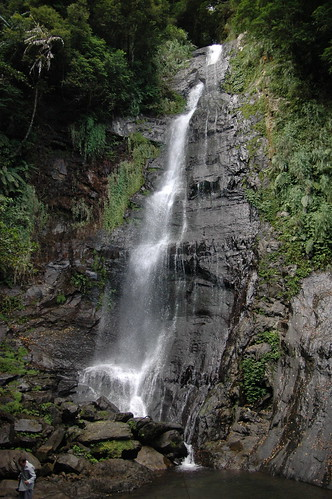wufengciWaterfall: (76, 45, 257, 418)
